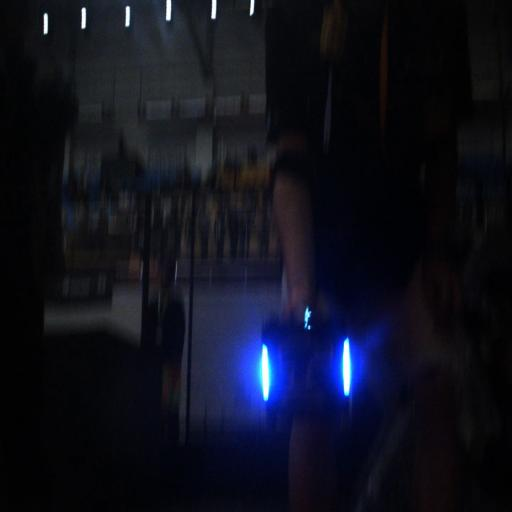target: (256, 314, 356, 420)
